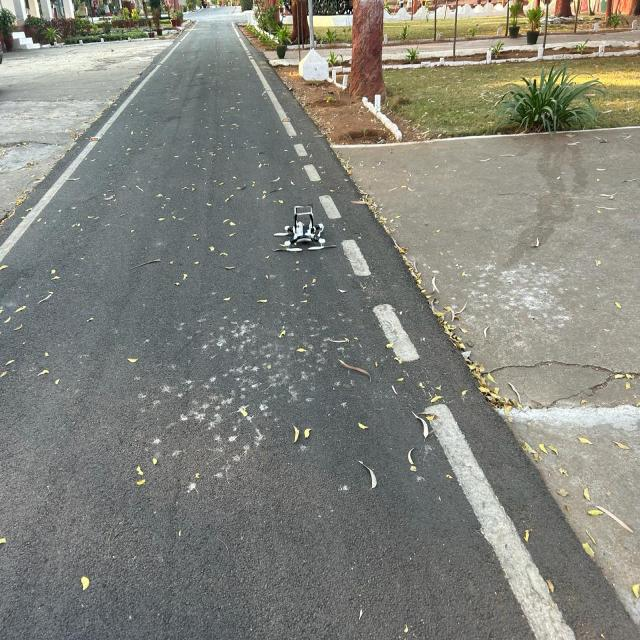drone: (252, 180, 359, 275)
